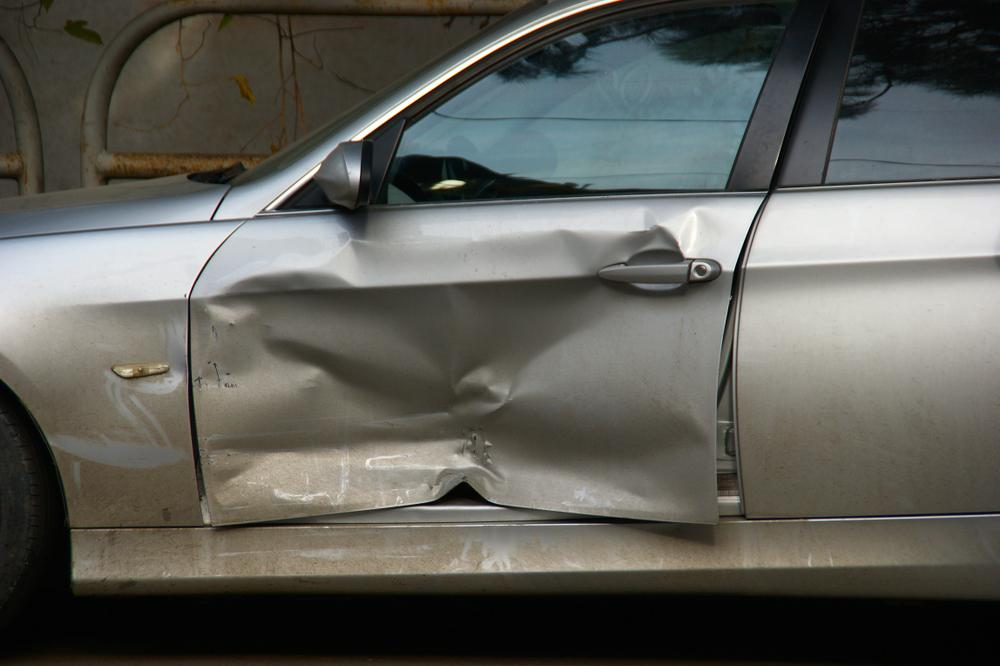dent: (204, 209, 718, 517)
